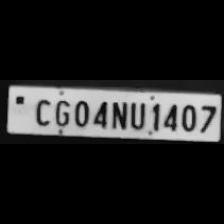0: (178, 102, 198, 132), (70, 98, 90, 127)
1: (147, 100, 161, 132)
4: (158, 100, 178, 132), (90, 98, 110, 128)
7: (196, 102, 216, 132)
C: (30, 96, 52, 127)
G: (52, 96, 70, 126)
N: (108, 100, 126, 130)
U: (127, 99, 147, 131)
